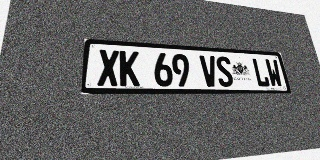6: (153, 52, 173, 86)
9: (171, 53, 191, 87)
K: (120, 50, 140, 86)
L: (251, 58, 271, 87)
S: (215, 56, 234, 87)
V: (199, 55, 219, 87)
W: (264, 59, 283, 87)
X: (97, 49, 119, 86)
